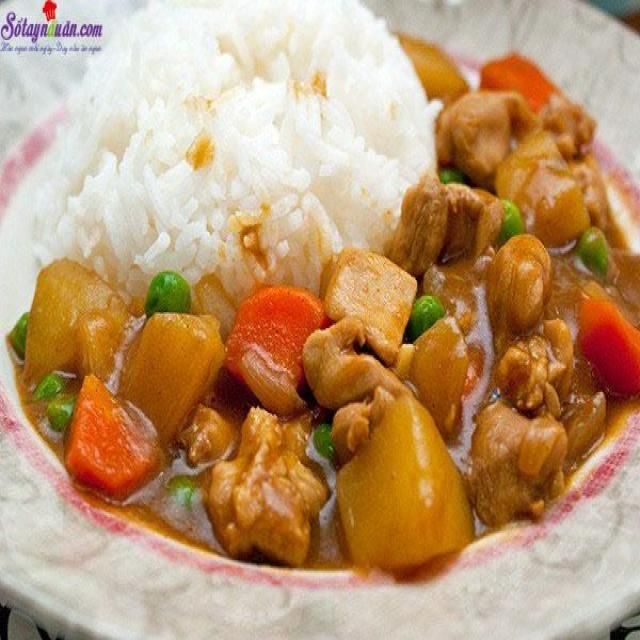cac loai rau cu: (338, 405, 459, 584), (8, 252, 129, 389), (123, 265, 210, 430), (54, 368, 146, 494), (502, 128, 594, 251), (235, 281, 327, 403), (571, 280, 640, 432), (392, 18, 475, 105), (483, 42, 557, 116), (570, 211, 621, 282)
com: (86, 24, 457, 260)
com ca ri: (31, 12, 639, 593)
thit bo: (189, 392, 331, 578), (328, 244, 436, 396), (493, 239, 571, 414), (411, 159, 498, 280), (444, 68, 497, 175), (528, 82, 589, 135)
